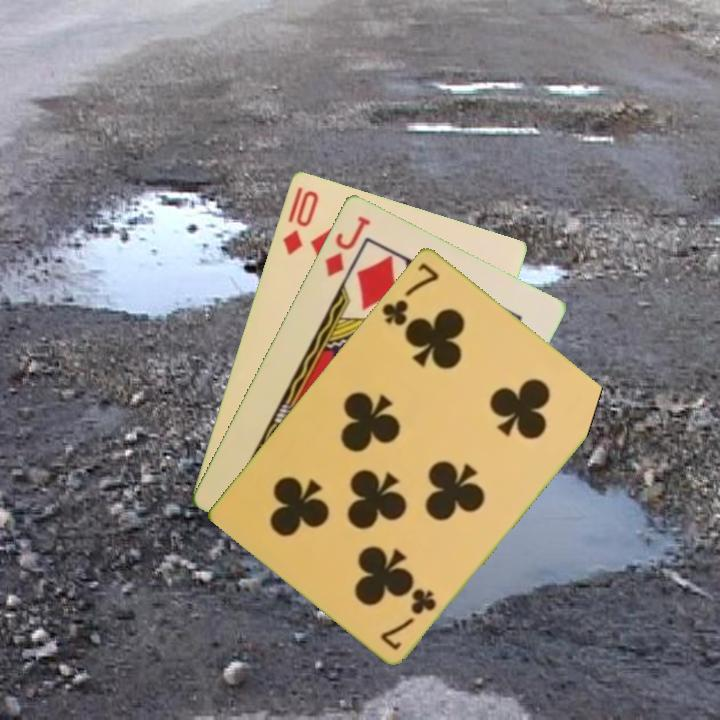10d: (278, 186, 321, 257)
7c: (378, 258, 442, 329), (376, 584, 439, 652)
Jd: (321, 211, 373, 280)
